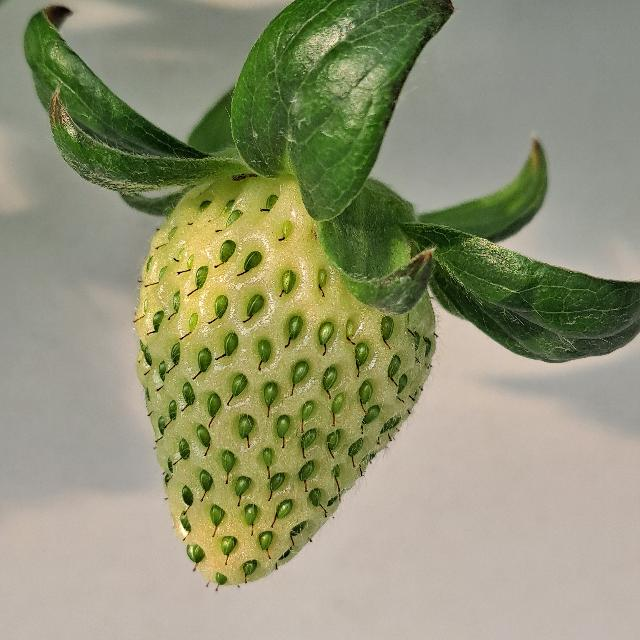Health_25: (134, 173, 436, 585)
